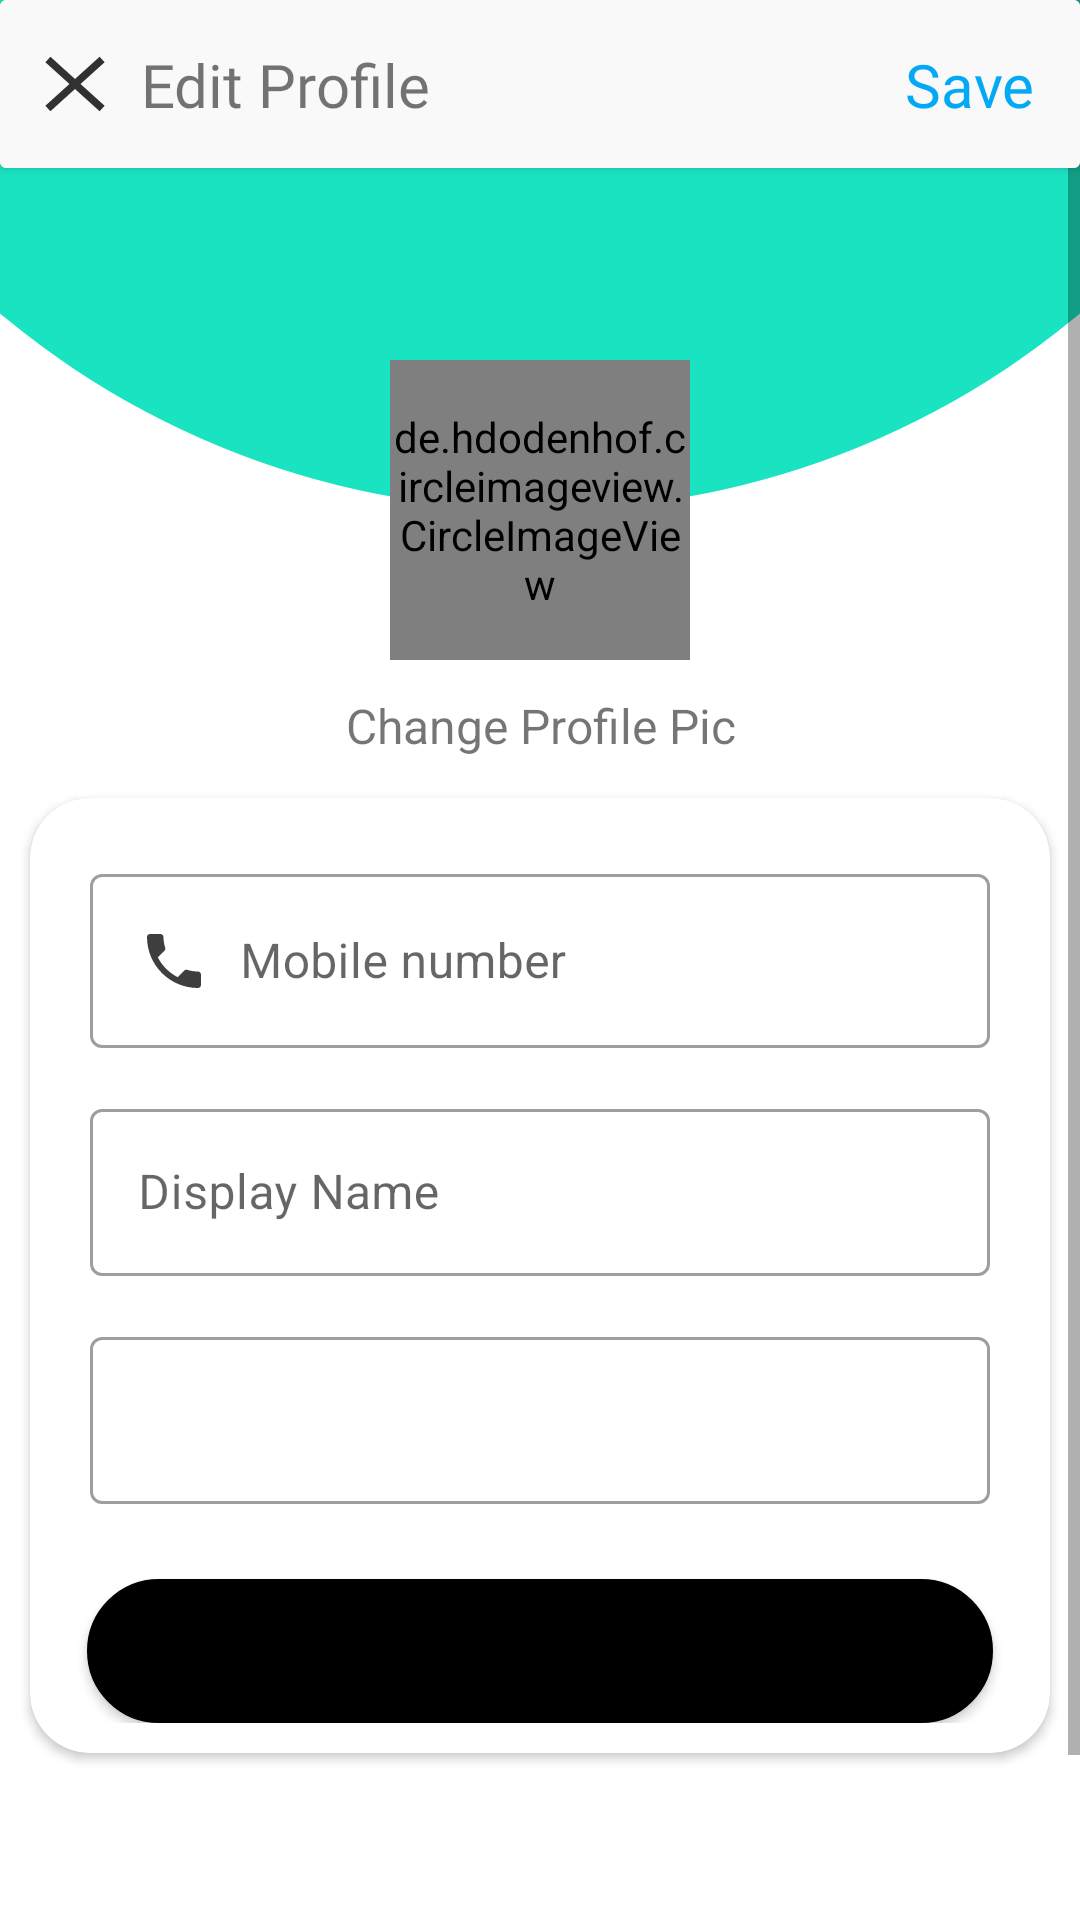

Point at icon controls on the screen. Image size 1080*1920, points as (x,y).
cancel: (75,84)
